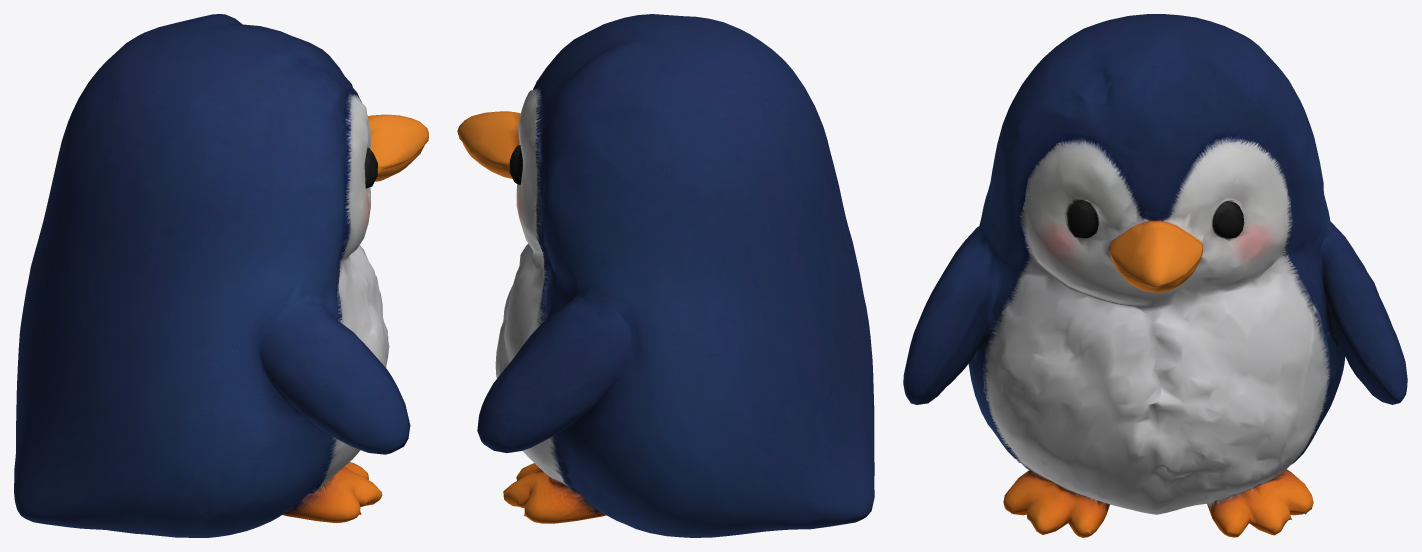
Rendered from penguin.glb.
3 views of the same model, side by side, from view 1: azimuth 30°, elevation 25°; view 2: azimuth 150°, elevation 25°; view 3: azimuth 270°, elevation 25° (orthographic).
Visible parts, largest first — view 1: tripo_node_11a9c8ce-fc9a-4b30-8c69-26a71052785d; view 2: tripo_node_11a9c8ce-fc9a-4b30-8c69-26a71052785d; view 3: tripo_node_11a9c8ce-fc9a-4b30-8c69-26a71052785d.
Boxes of the visible parts, x1=… form: tripo_node_11a9c8ce-fc9a-4b30-8c69-26a71052785d: x1=14, y1=14, x2=428, y2=537; tripo_node_11a9c8ce-fc9a-4b30-8c69-26a71052785d: x1=457, y1=14, x2=874, y2=537; tripo_node_11a9c8ce-fc9a-4b30-8c69-26a71052785d: x1=903, y1=14, x2=1407, y2=537.
Size of the model in its own units: 0.9408 by 1 by 0.9953.
1 material, 1 textured.
